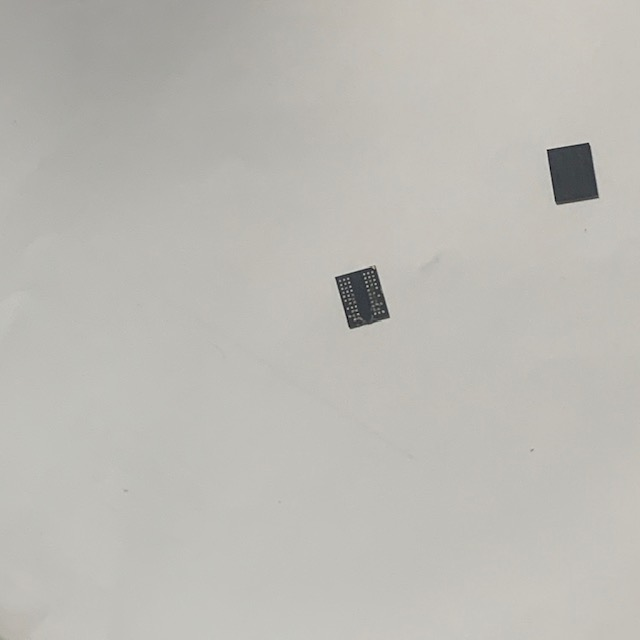IC: (331, 261, 393, 331), (544, 140, 602, 207)
